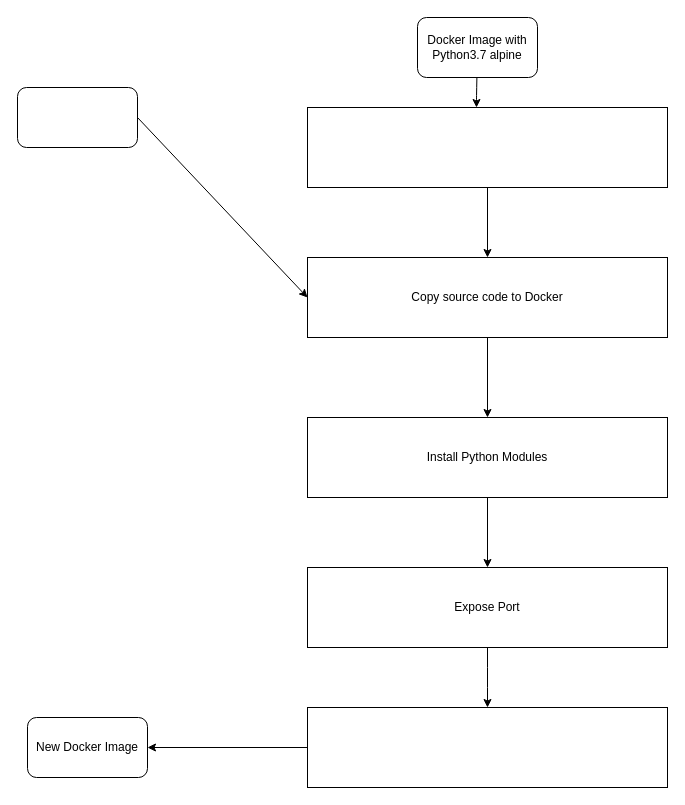
The diagram is 685 pixels wide and 805 high, and some of its shapes have lost their labels. The shapes that lost their labels are listed below. From the top down, each one's box as (x1, y1, x2, y2) in pixels, then its label:
(16, 86, 138, 148): Flask App
(306, 106, 668, 188): Creating Working Directory
(306, 706, 668, 788): Make Container Executable
